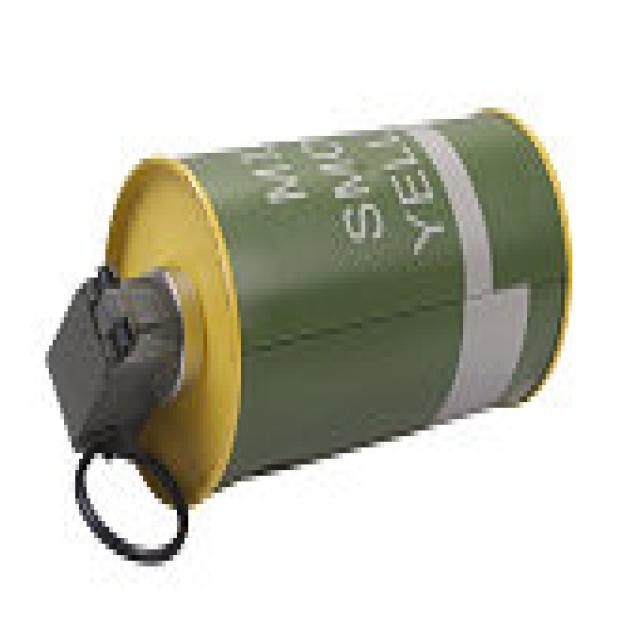grenade: (42, 90, 583, 585)
